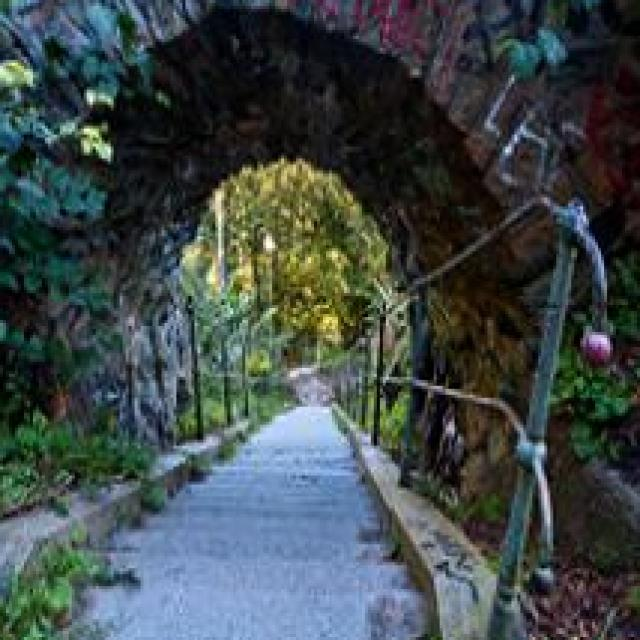downstair: (54, 473, 434, 640)
